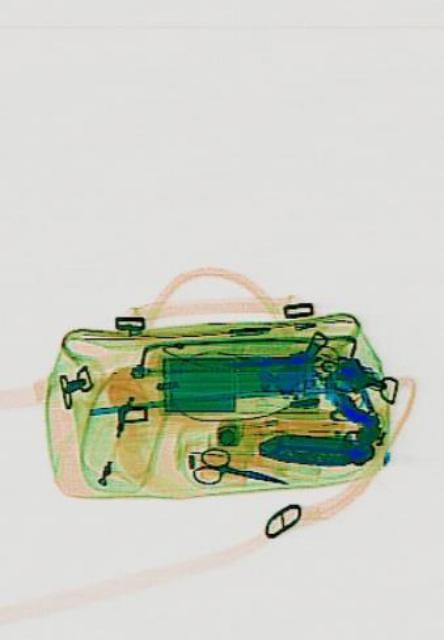Scissors: (191, 441, 287, 497)
